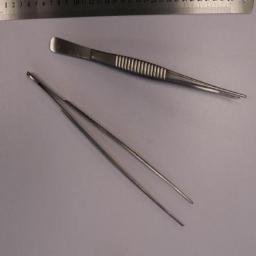DeBakey Dissector: (28, 71, 192, 227), (50, 36, 246, 98)
